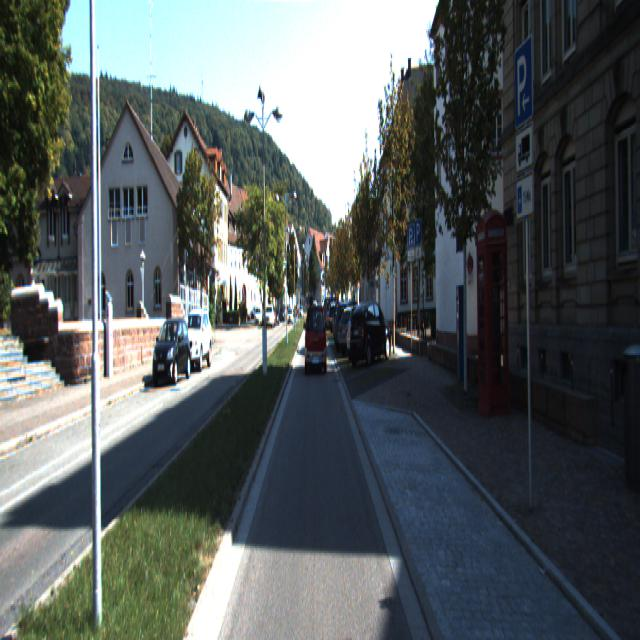Car: (348, 299, 392, 367), (152, 319, 193, 388), (346, 306, 388, 365), (179, 311, 213, 372), (336, 304, 376, 355), (333, 302, 368, 353), (306, 306, 328, 376)
